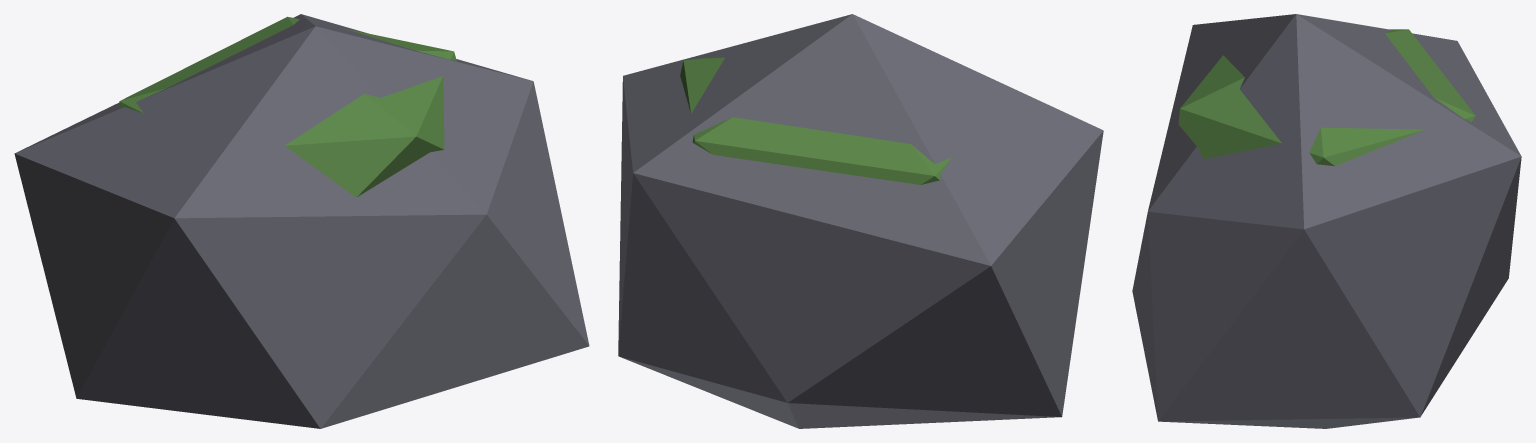
The model's file is moss_boulder.fbx.
The picture shows the model from 3 angles, left to right: view 1: azimuth 30°, elevation 25°; view 2: azimuth 150°, elevation 25°; view 3: azimuth 270°, elevation 25°; orthographic projection. The views are drawn at different scales.
Parts seen in each view (by area): view 1: moss_boulder; view 2: moss_boulder; view 3: moss_boulder.
Boxes of the visible parts, bbox=[...] form: moss_boulder: bbox=[14, 14, 589, 428]; moss_boulder: bbox=[618, 14, 1103, 428]; moss_boulder: bbox=[1132, 14, 1521, 428].
Size of the model in its own units: 1.6 by 1.39 by 1.24.
